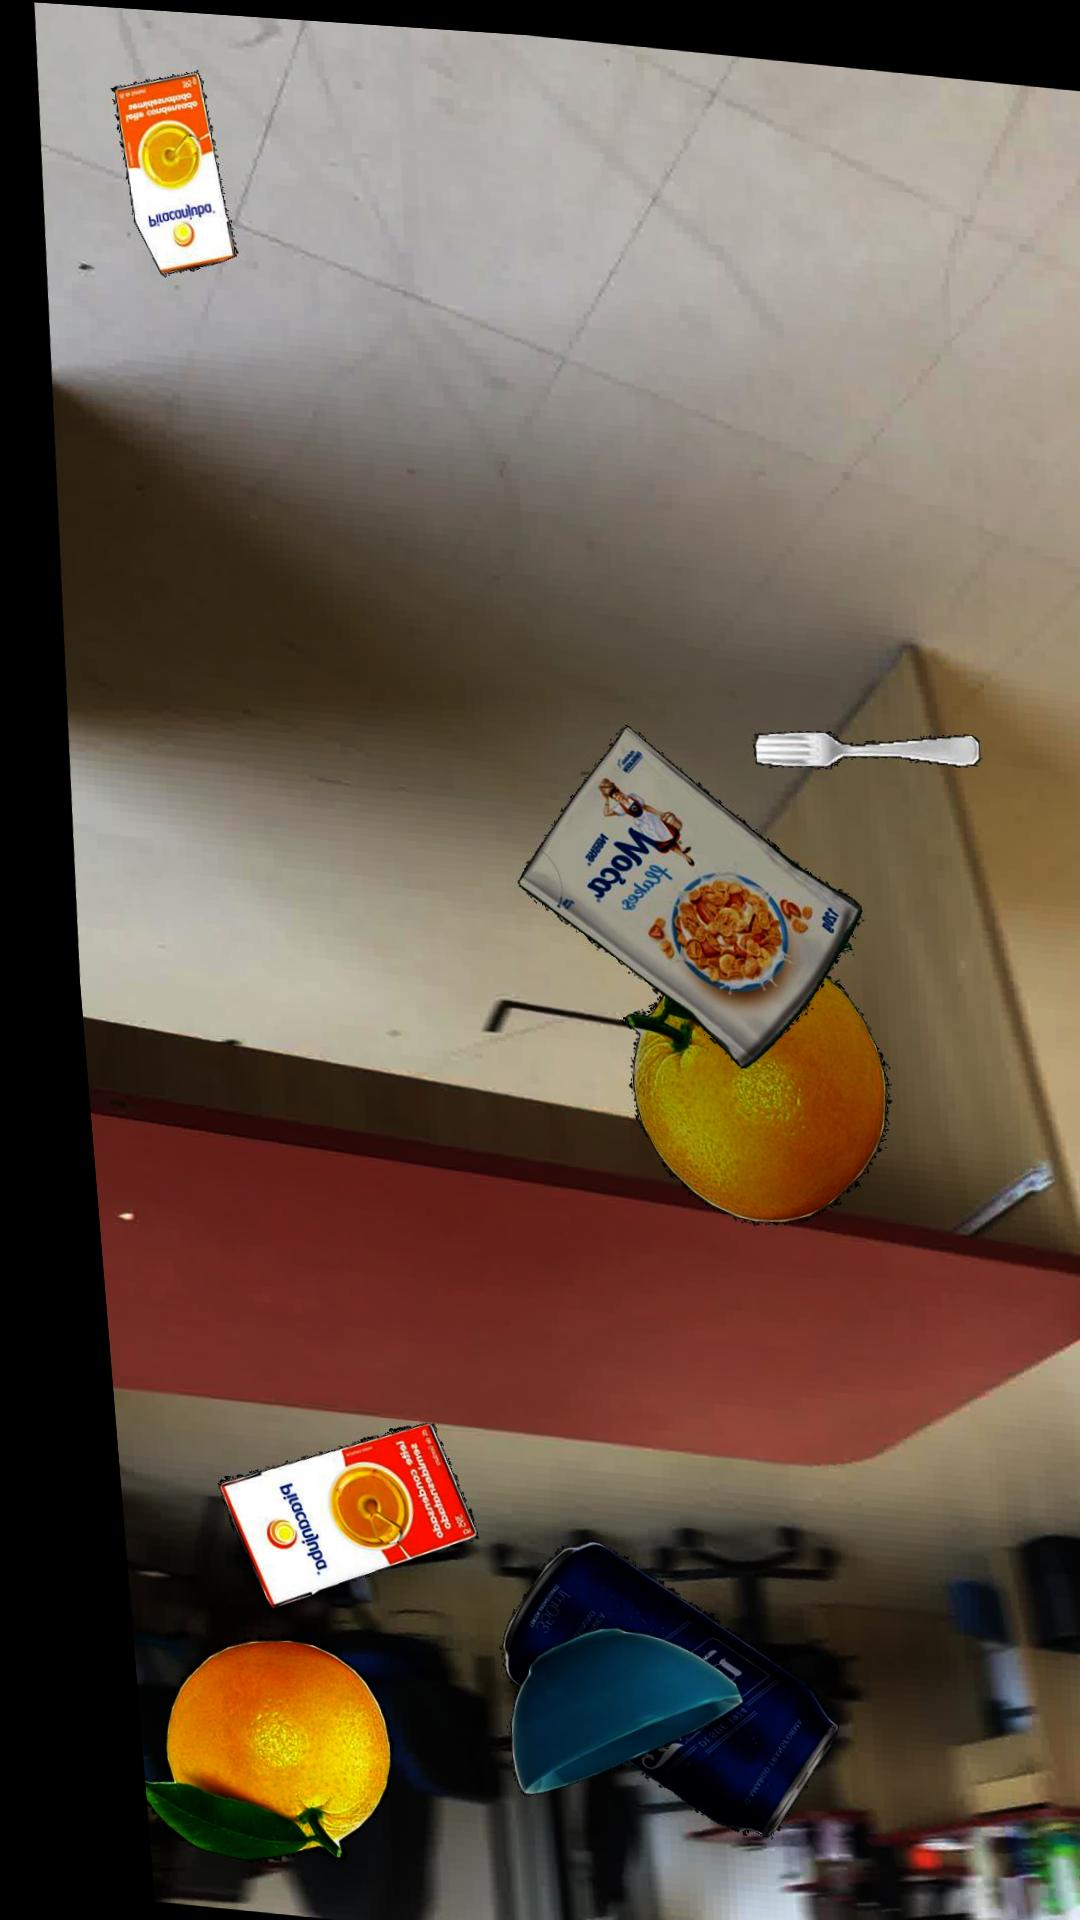bowl: (481, 1620, 716, 1790)
corn flakes: (504, 717, 848, 1060)
fork: (742, 721, 969, 758)
orange: (607, 932, 872, 1216), (114, 1633, 365, 1862)
tonic: (474, 1535, 810, 1829)
